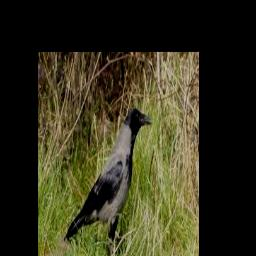Crow: (64, 108, 153, 255)
